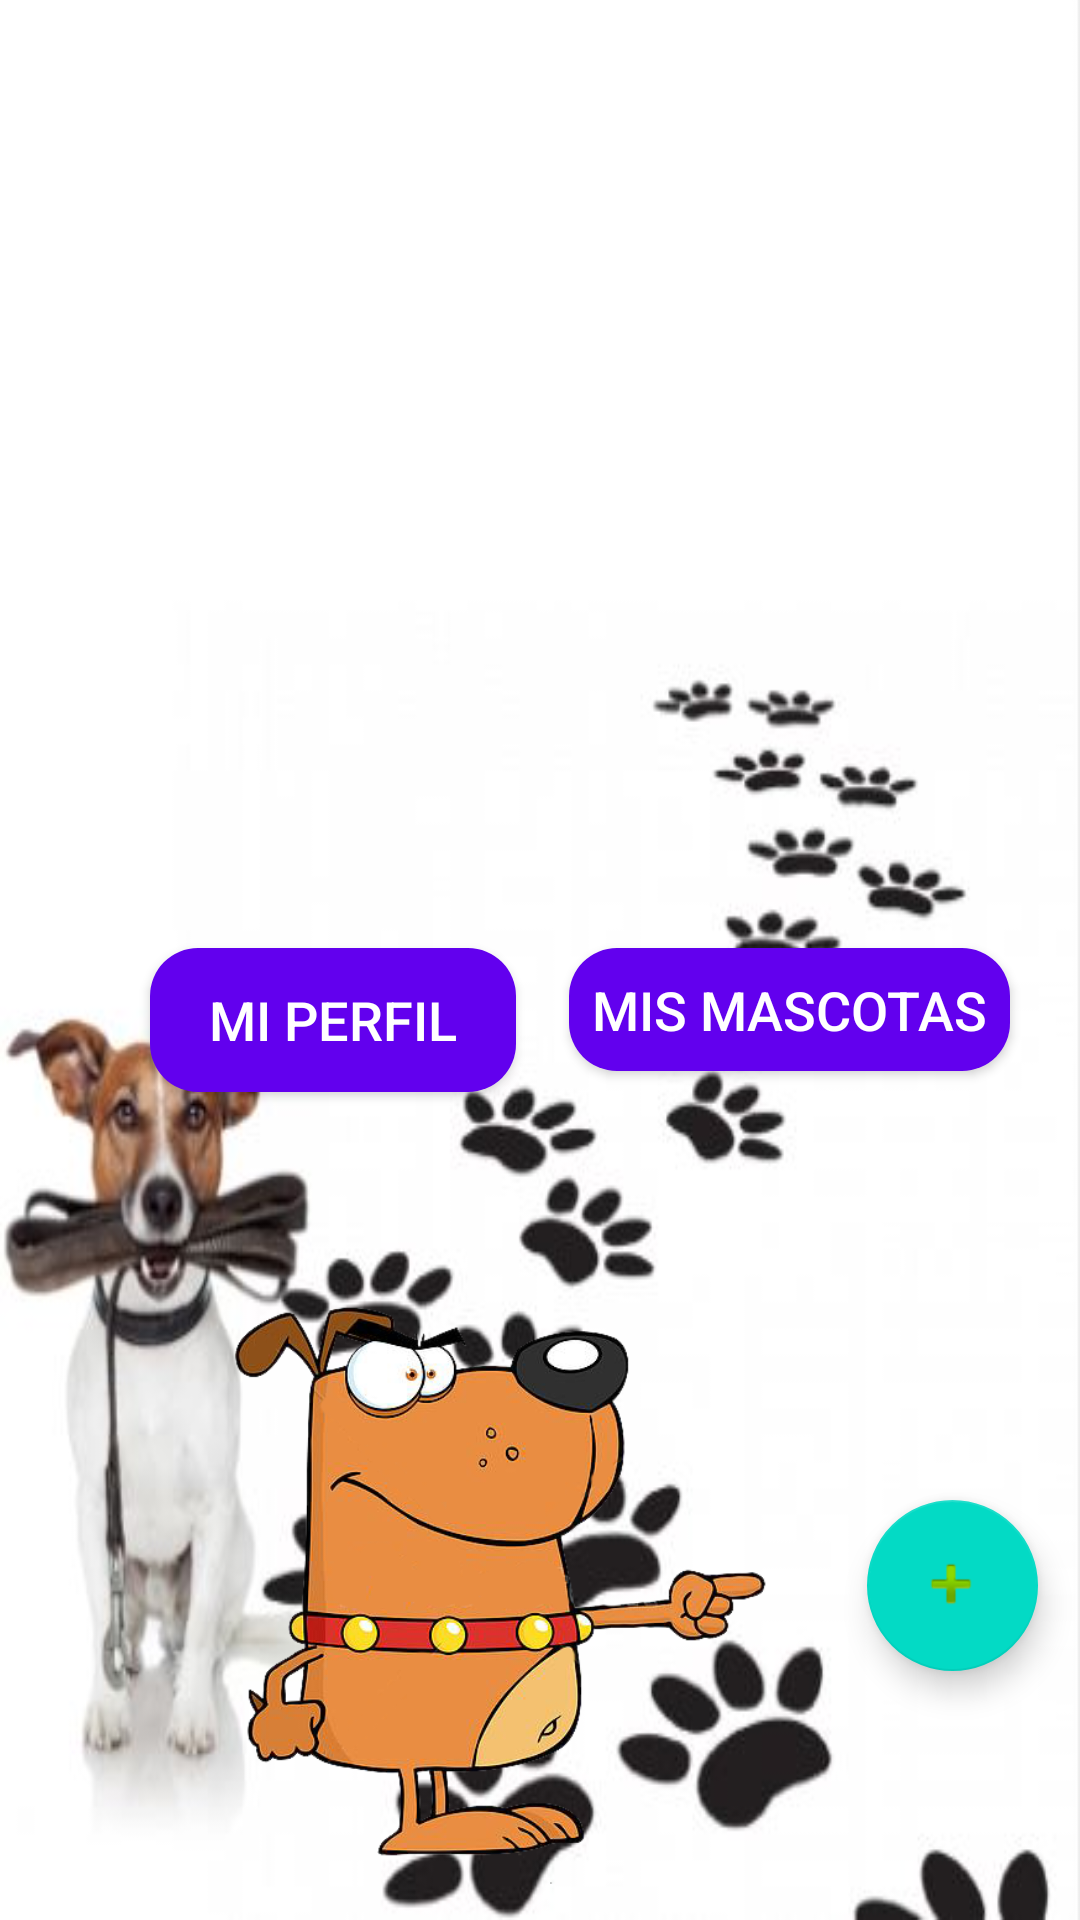

Named icons in this screenshot (1080*1920) and their centers, [x,y]:
add: [952,1585]
